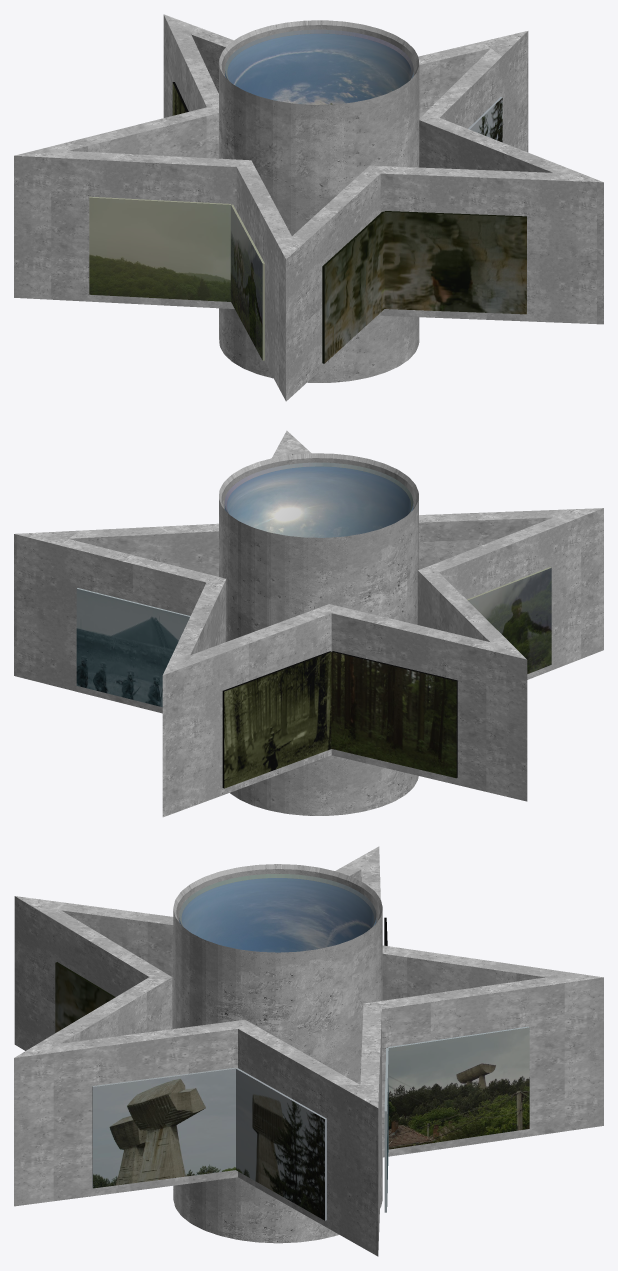
Rendered from mostar.glb.
3 renders of one model, top to bottom at view 1: azimuth 30°, elevation 25°; view 2: azimuth 150°, elevation 25°; view 3: azimuth 270°, elevation 25°, orthographic. The views are drawn at different scales.
Parts seen in each view (by area): view 1: neuer Stern, Circle, videotarget, tjentiste, Cylinder.003, Nis; view 2: neuer Stern, Circle, kozara, Cylinder.003, mitrovica, tjentiste; view 3: neuer Stern, Circle, Nis, mitrovica, Cylinder.003, videotarget.
Part boxes in pixels (left/top/right/bottom): neuer Stern: left=14, top=14, right=603, bottom=401; Circle: left=219, top=20, right=419, bottom=382; videotarget: left=322, top=211, right=526, bottom=363; tjentiste: left=89, top=196, right=264, bottom=360; Cylinder.003: left=225, top=29, right=413, bottom=104; Nis: left=468, top=97, right=502, bottom=142; neuer Stern: left=14, top=430, right=603, bottom=817; Circle: left=219, top=453, right=418, bottom=815; kozara: left=222, top=651, right=457, bottom=788; Cylinder.003: left=224, top=462, right=413, bottom=537; mitrovica: left=76, top=588, right=190, bottom=707; tjentiste: left=467, top=567, right=551, bottom=673; neuer Stern: left=14, top=846, right=603, bottom=1256; Circle: left=173, top=864, right=382, bottom=1243; Nis: left=92, top=1067, right=326, bottom=1220; mitrovica: left=384, top=1026, right=529, bottom=1212; Cylinder.003: left=179, top=874, right=376, bottom=952; videotarget: left=55, top=962, right=115, bottom=1032.
Bounding box in the file's own units: 13.96 × 7.22 × 13.29.
8 materials, 8 textured.
